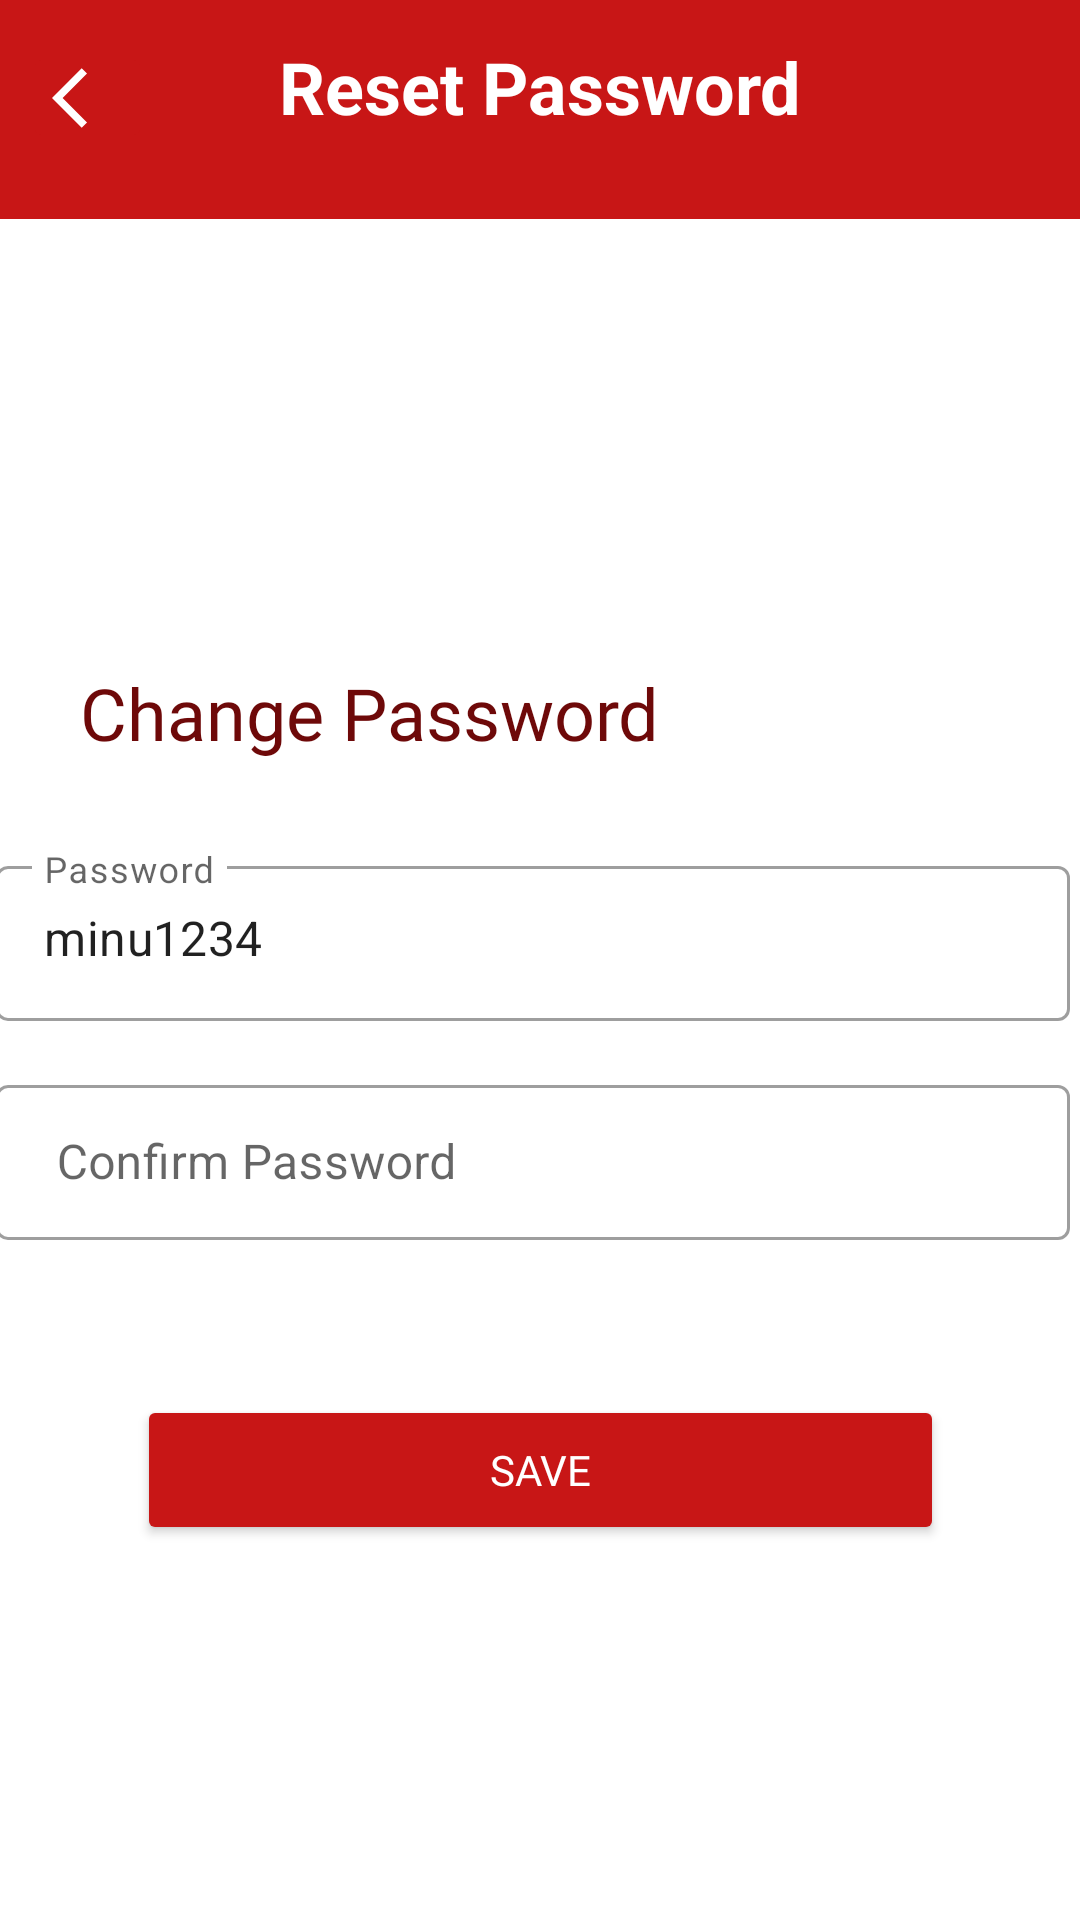

Named icons in this screenshot (1080 x 1920) and their centers, (x,y):
arrow back: (69,98)
